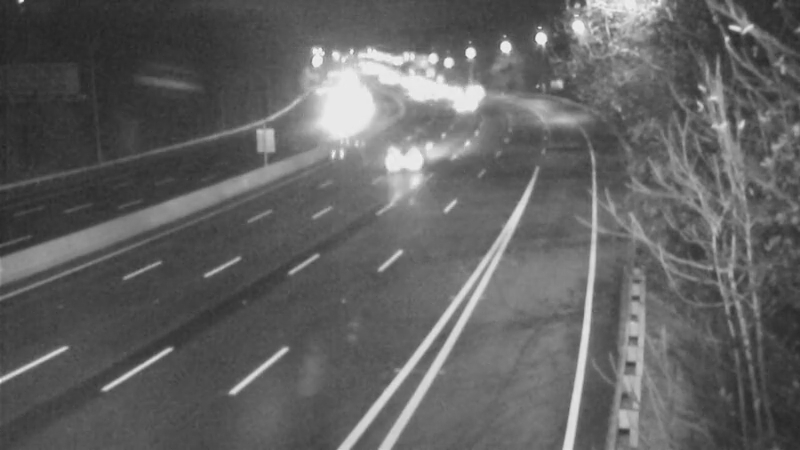vehicle: (365, 114, 445, 194), (437, 80, 487, 130)
